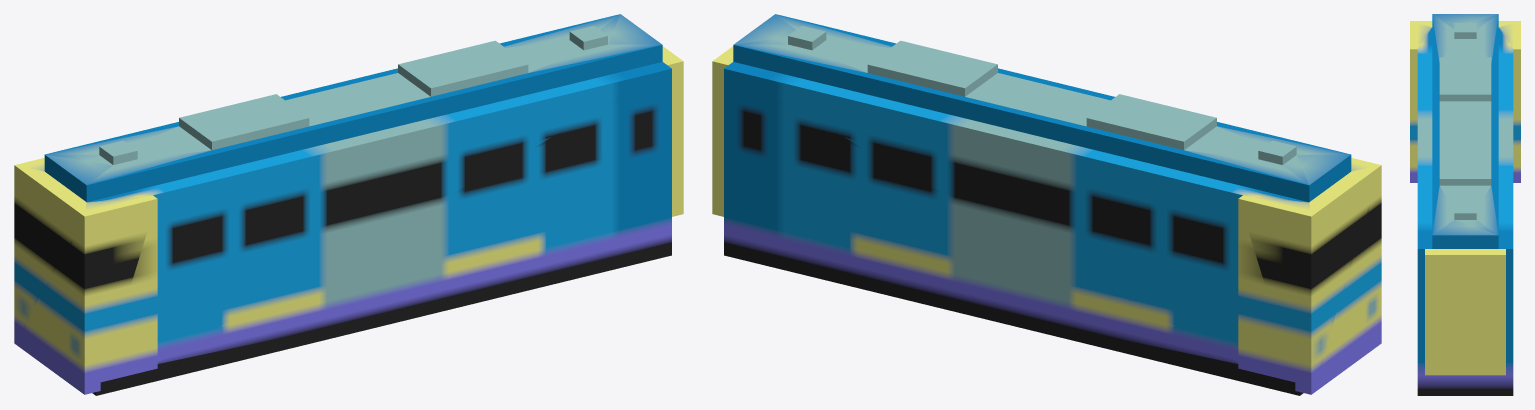
Rendered from veh_train_side.dae.
3 views of the same model, side by side, from view 1: azimuth 30°, elevation 25°; view 2: azimuth 150°, elevation 25°; view 3: azimuth 270°, elevation 25° (orthographic). The views are drawn at different scales.
Visible parts, largest first — view 1: veh_train_side; view 2: veh_train_side; view 3: veh_train_side.
Boxes of the visible parts, left/top/right/bottom form: veh_train_side: left=14, top=14, right=683, bottom=395; veh_train_side: left=712, top=14, right=1381, bottom=395; veh_train_side: left=1410, top=14, right=1520, bottom=395.
Bounding box in the file's own units: 7.5 × 2.6 × 1.5.
